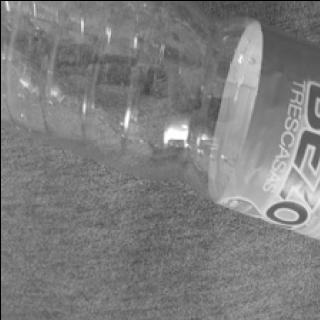plastic_bottles: (0, 0, 320, 240)
